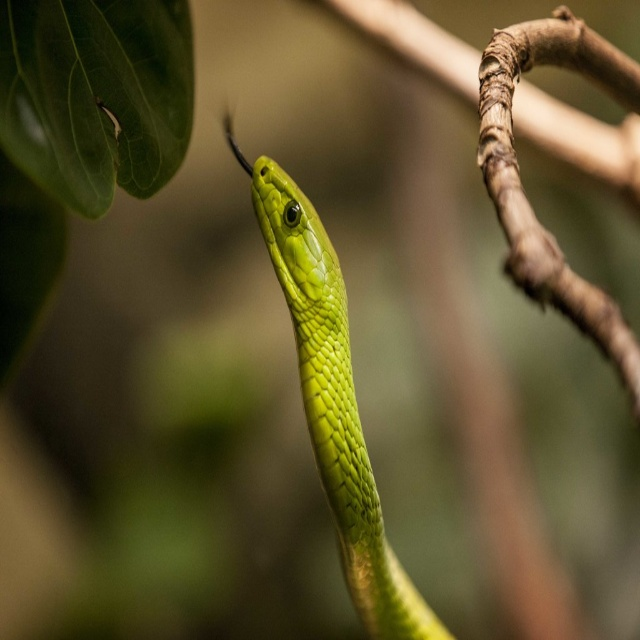Snake: (219, 99, 464, 640)
